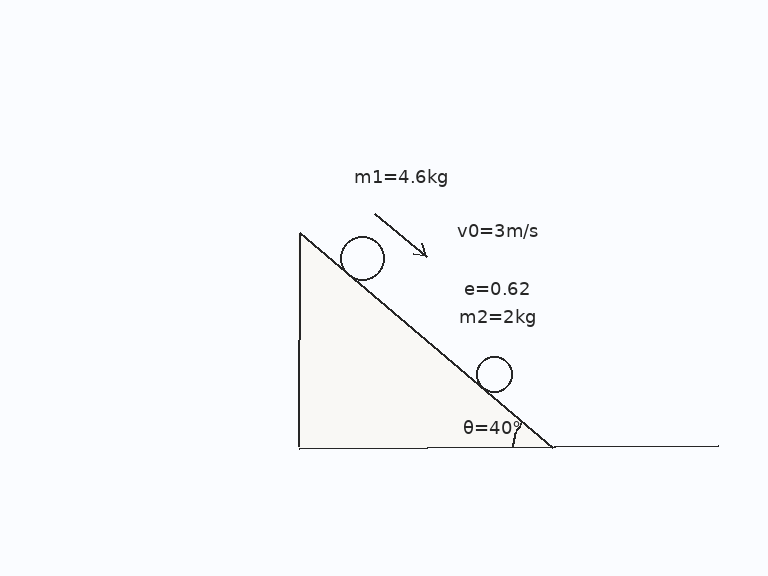ball: (338, 234, 386, 282), (474, 354, 514, 394)
ramp: (297, 232, 555, 449)
